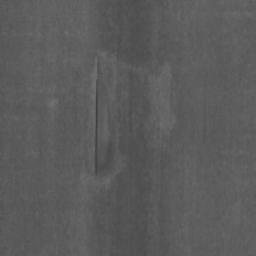Rolled pit: (95, 53, 172, 174)
